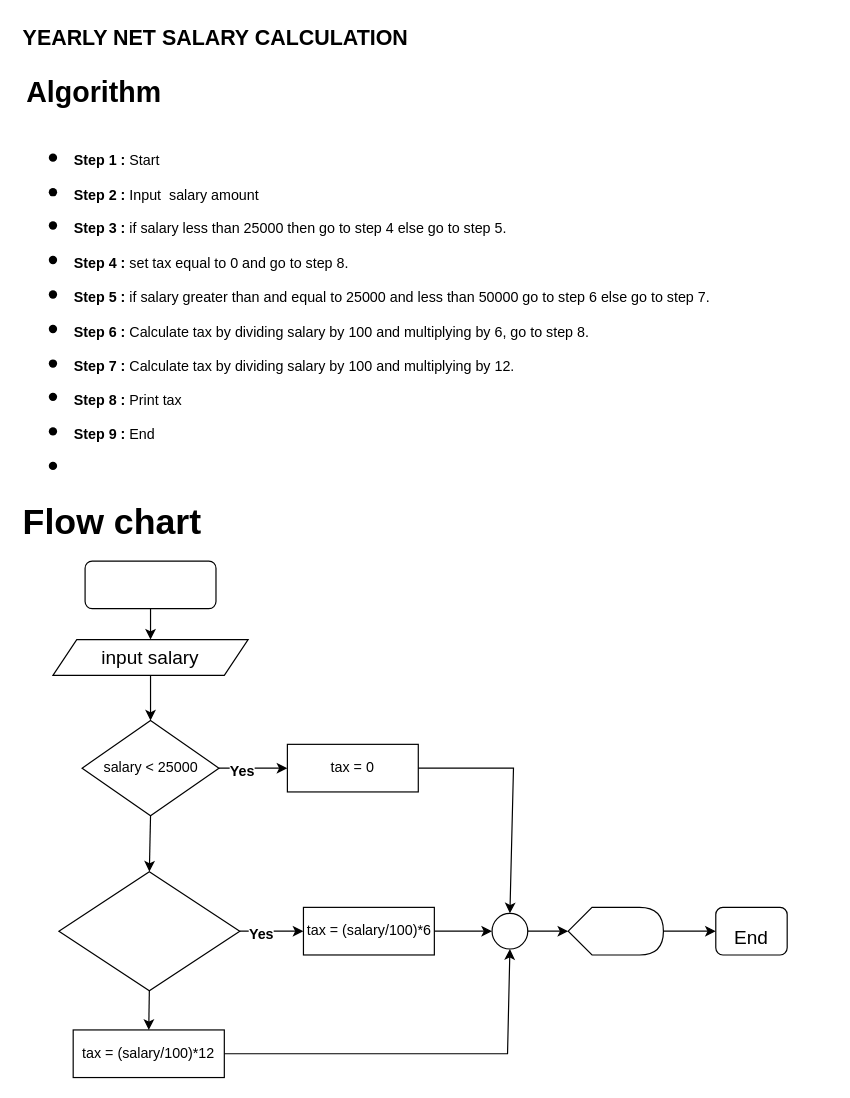
Some shapes in this 850 by 1098 pixel diagram are drawn without their labels. Here are the shapes that lost their labels. From the top down, the centre of each, then its label:
At point (150, 584): "Start".
At point (149, 930): "salary >= 25000 and salary < 50000".
At point (615, 930): "print tax".
